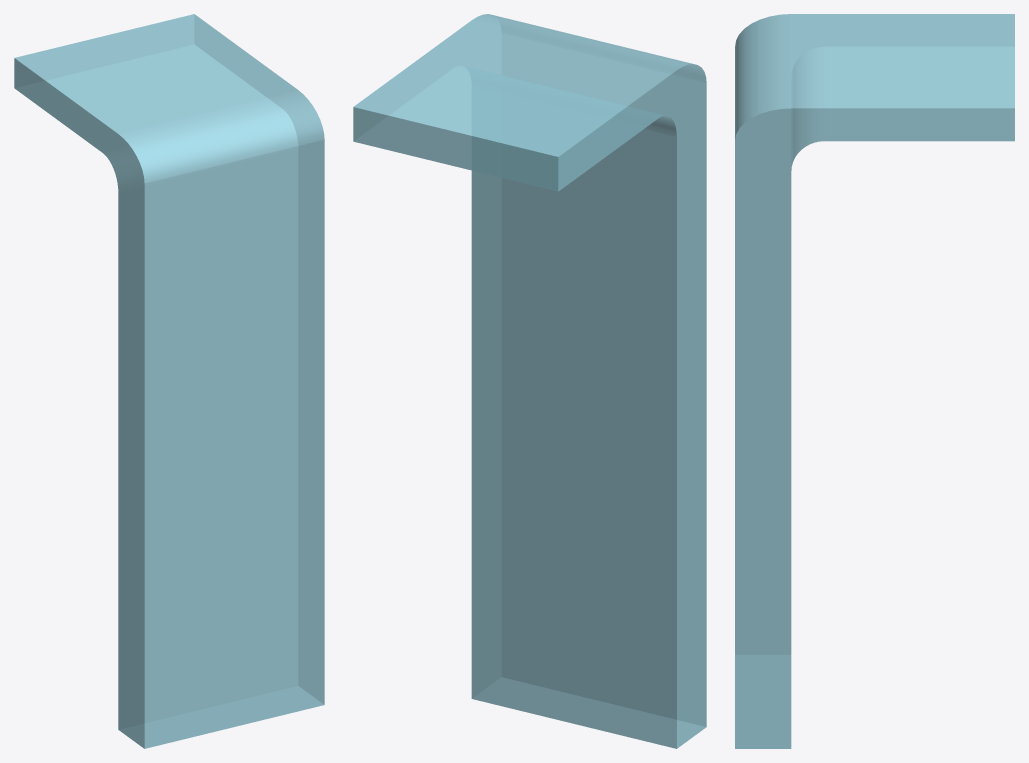
File: wateredge.fbx
3 renders of one model, left to right at view 1: azimuth 30°, elevation 25°; view 2: azimuth 150°, elevation 25°; view 3: azimuth 270°, elevation 25°, orthographic. The views are drawn at different scales.
Visible parts, largest first — view 1: water; view 2: water; view 3: water.
Part boxes in pixels (x1,y1,x2,y2): water: (14, 14, 324, 748); water: (353, 14, 706, 748); water: (735, 14, 1014, 748).
Size of the model in its own units: 200 by 632 by 250.
